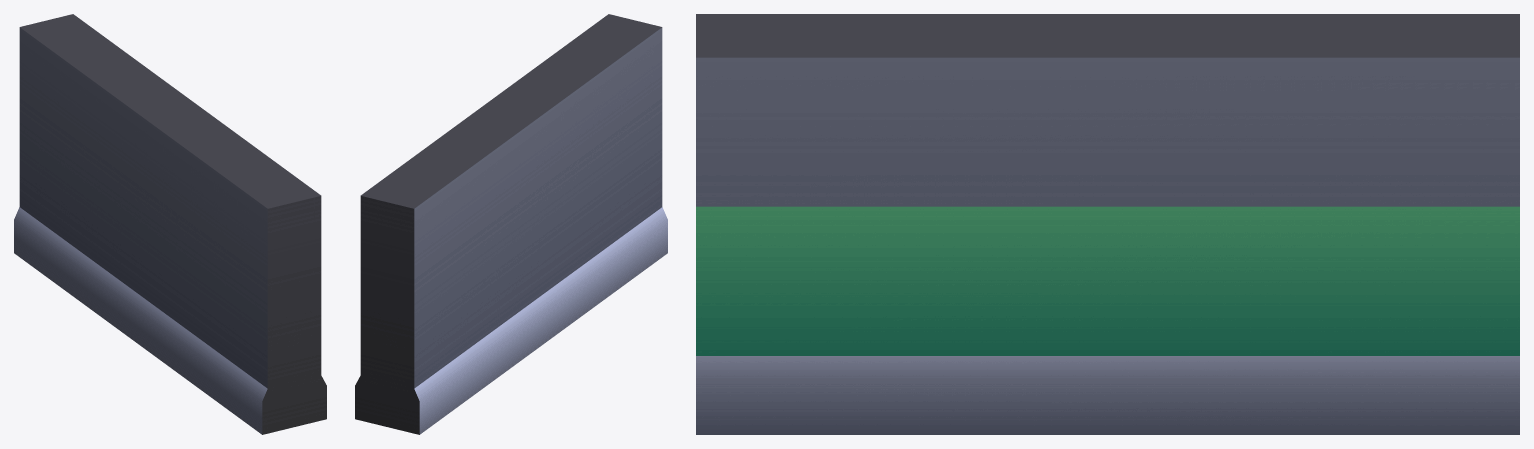
Rendered from wall_lev2.glb.
3 renders of one model, left to right at view 1: azimuth 30°, elevation 25°; view 2: azimuth 150°, elevation 25°; view 3: azimuth 270°, elevation 25°, orthographic. The views are drawn at different scales.
Visible parts, largest first — view 1: wall_lev2; view 2: wall_lev2; view 3: wall_lev2.
Boxes of the visible parts, <box> form: wall_lev2: <box>14,14,326,434</box>; wall_lev2: <box>355,14,667,434</box>; wall_lev2: <box>696,14,1519,434</box>.
Bounding box in the file's own units: 1.2 × 4 × 8.
Materials: 1 (1 with a texture image).
